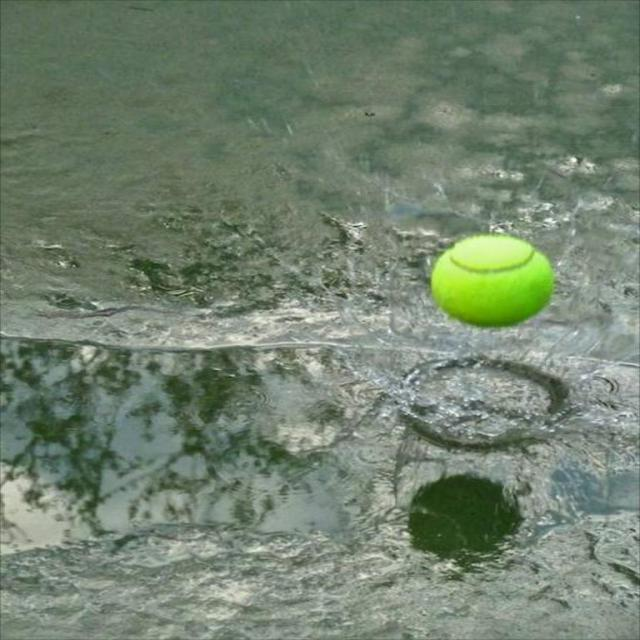Tennis ball: (431, 235, 552, 325)
